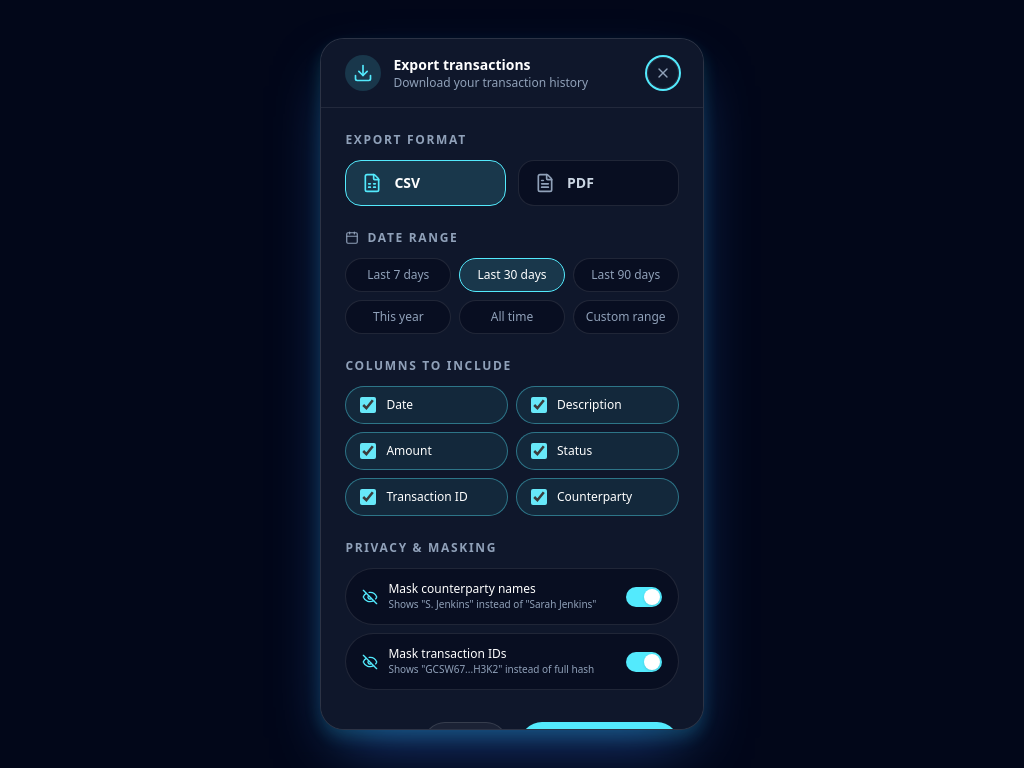
Test: ExportHistoryModal › shows custom date inputs when Custom range is selected
expect the field labelled "Start date" is not shown: met
Click the radio button labelled "Custom range".
click(626, 317)  # box [573,300,678,334]
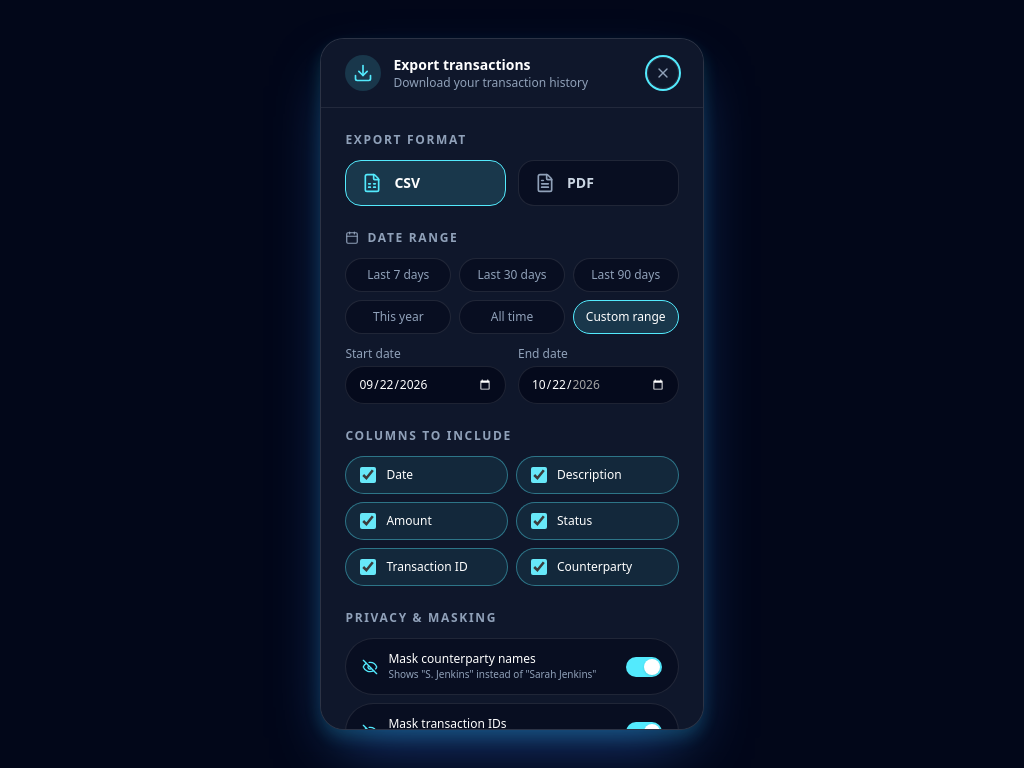
expect the date field labelled "Start date" is shown: met, box [345,366,506,404]
expect the date field labelled "End date" is shown: met, box [518,366,679,404]
